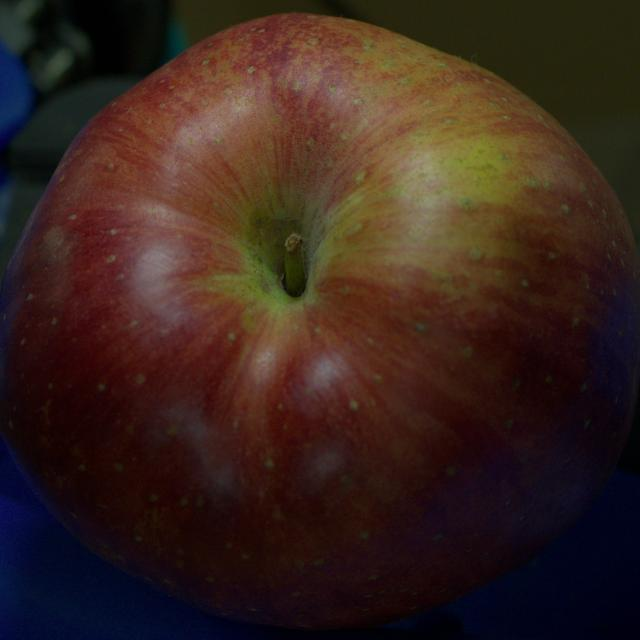apple: (0, 14, 639, 628)
